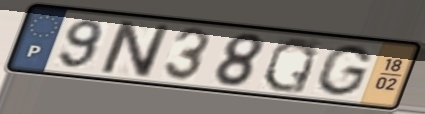3: (161, 25, 214, 83)
8: (212, 31, 266, 89)
9: (55, 18, 110, 70)
G: (312, 42, 376, 98)
N: (98, 18, 172, 80)
Q: (259, 35, 321, 96)
